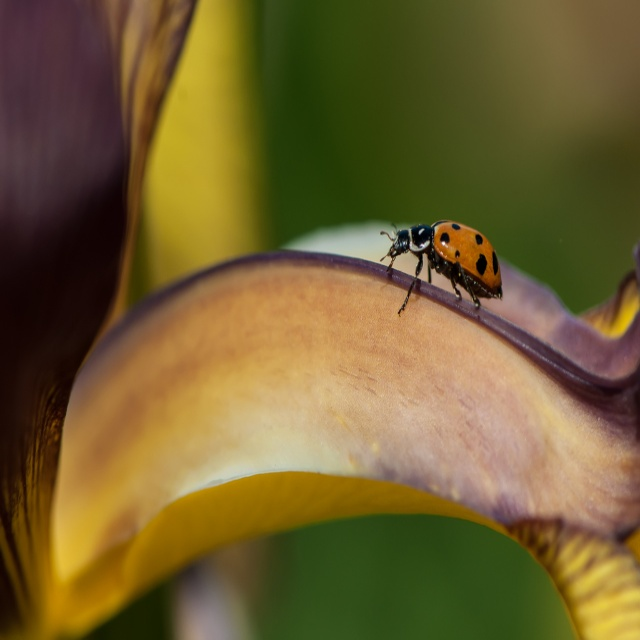Ladybug: (377, 219, 504, 320)
